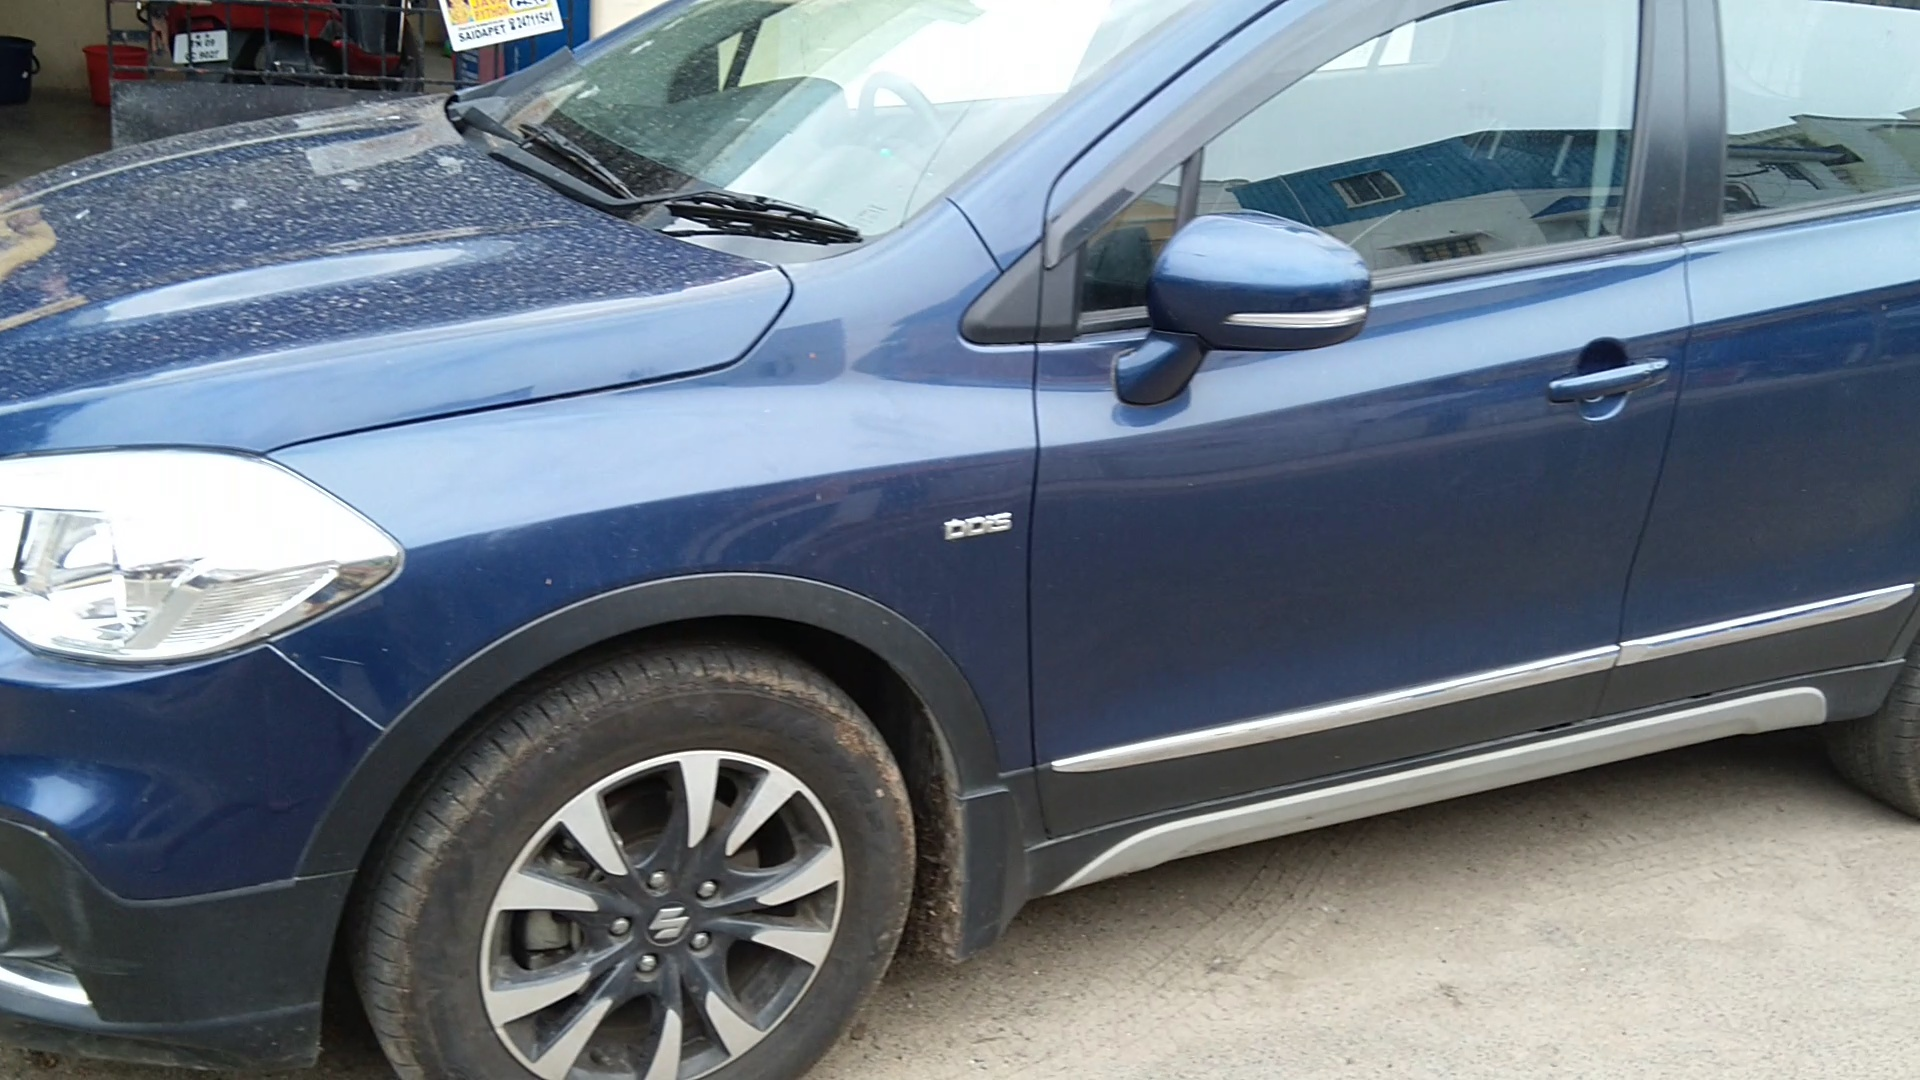alloy_wheel: (397, 666, 887, 1080)
headlamp: (1, 434, 455, 702)
ovr_mirror: (1138, 199, 1375, 396)
